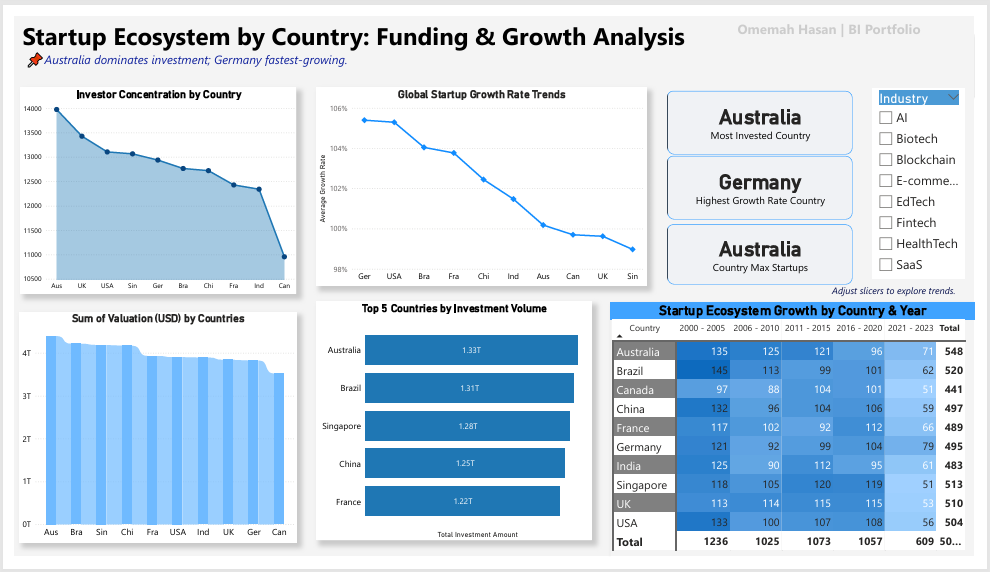

Layout of this report page (visuals, bound fields, positions):
{"tool":"powerbi","page":{"name":"Country","canvas":[1920,1080],"ordinal":1},"visuals":[{"type":"pivotTable","title":"Startup Ecosystem Growth by Country & Year","fields":{"Rows":["startup_growth_investment_data.Country"],"Values":["startup_growth_investment_data.Total Startups"],"Columns":["startup_growth_investment_data.Year grouped"]},"box":[1189.8,571.4,730.6,508.2],"z":0},{"type":"areaChart","title":"Investor Concentration by Country","fields":{"Y":["startup_growth_investment_data.Total Investors"],"Category":["startup_growth_investment_data.Countries"]},"box":[12.1,142.4,551.5,412.1],"z":1000},{"type":"barChart","title":"Top 5 Countries by Investment Volume","fields":{"Category":["startup_growth_investment_data.Country"],"Y":["Avg(startup_growth_investment_data.Investment Amount (USD))"]},"box":[602,573.5,553.1,479.6],"z":2000},{"type":"ribbonChart","fields":{"Category":["startup_growth_investment_data.Countries"],"Y":["Sum(startup_growth_investment_data.Valuation (USD))"]},"box":[9.1,590.9,554.5,460.6],"z":3000},{"type":"cardVisual","fields":{"Data":["startup_growth_investment_data.Country Max Startups"]},"box":[1300,410.2,379.6,130.6],"z":4000},{"type":"lineChart","title":"Global Startup Growth Rate Trends","fields":{"Category":["startup_growth_investment_data.Countries"],"Y":["startup_growth_investment_data.Average Growth Rate"]},"box":[603,142.4,660.6,397],"z":5000},{"type":"textbox","box":[10,0,1370,80],"z":6000},{"type":"cardVisual","fields":{"Data":["startup_growth_investment_data.Most Invested Country","startup_growth_investment_data.Highest Growth Rate Country"]},"box":[1300,142.7,380.2,267.7],"z":7000},{"type":"slicer","fields":{"Values":["startup_growth_investment_data.Industry"]},"box":[1716.3,142.9,185.7,381.6],"z":8000},{"type":"textbox","box":[11.1,61.1,733.3,64.8],"z":9000},{"type":"textbox","box":[1440,0,480,60],"z":10000},{"type":"textbox","box":[1628.9,528.9,291.1,42.2],"z":11000}]}

Visuals, with their boxes in screenshot pixels (x1, y1, x2, y2), scaled from the page's 1920x1080 canvas onto the 990x572 screenshot:
"Startup Ecosystem Growth by Country & Year" pivotTable: box(613, 303, 989, 571)
"Investor Concentration by Country" areaChart: box(6, 75, 291, 294)
"Top 5 Countries by Investment Volume" barChart: box(310, 304, 596, 558)
ribbonChart - startup_growth_investment_data.Countries x Sum(startup_growth_investment_data.Valuation (USD)): box(5, 313, 291, 557)
cardVisual - startup_growth_investment_data.Country Max Startups: box(670, 217, 866, 286)
"Global Startup Growth Rate Trends" lineChart: box(311, 75, 652, 286)
textbox: box(5, 0, 712, 42)
cardVisual - startup_growth_investment_data.Most Invested Country x startup_growth_investment_data.Highest Growth Rate Country: box(670, 76, 866, 217)
slicer - startup_growth_investment_data.Industry: box(885, 76, 981, 278)
textbox: box(6, 32, 384, 67)
textbox: box(742, 0, 989, 32)
textbox: box(840, 280, 989, 302)
